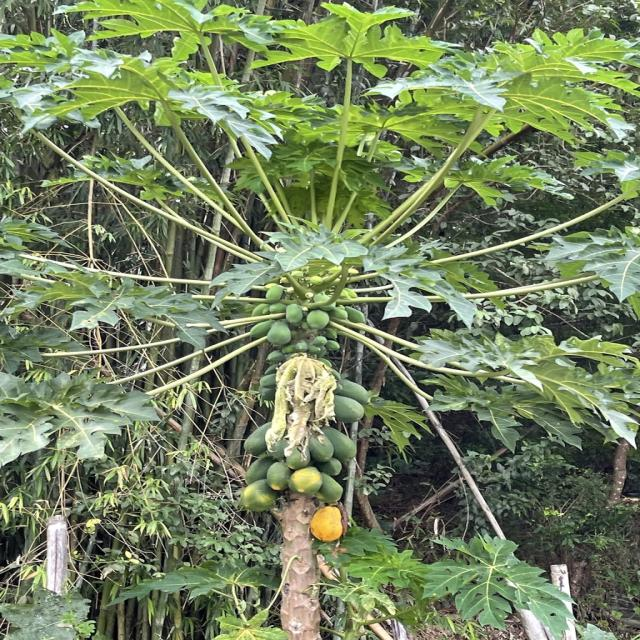Papaya-Tree: (9, 12, 622, 640)
